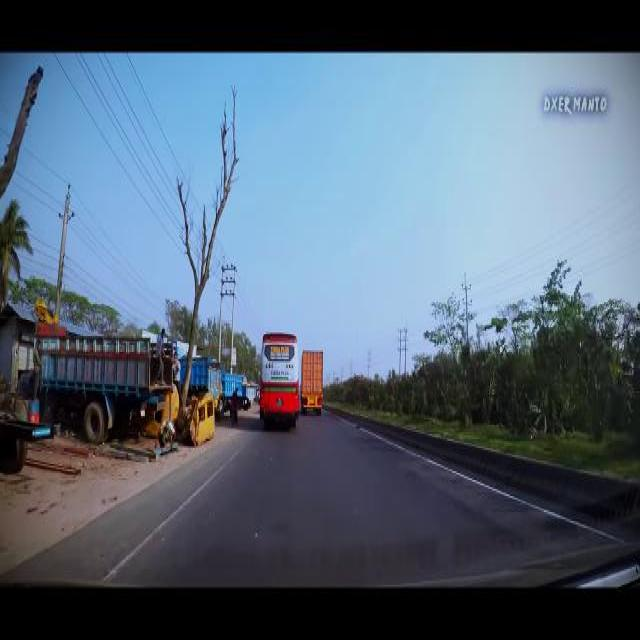bus: (258, 330, 298, 420)
truck: (299, 348, 323, 409)
